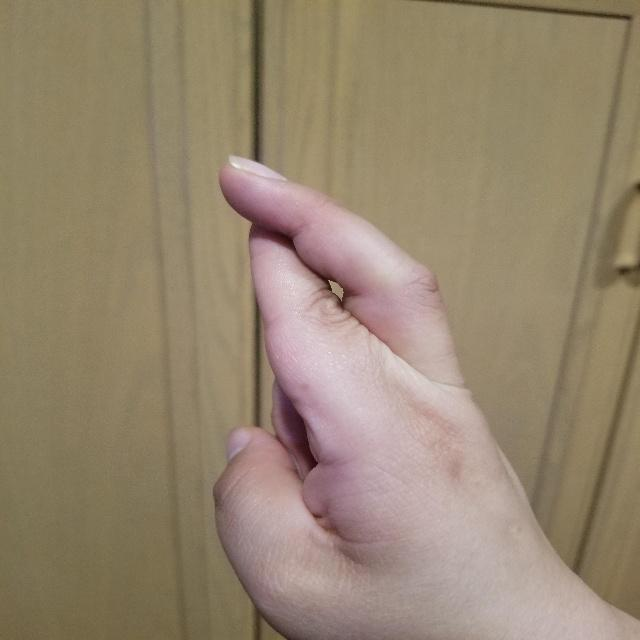R: (203, 147, 545, 639)
